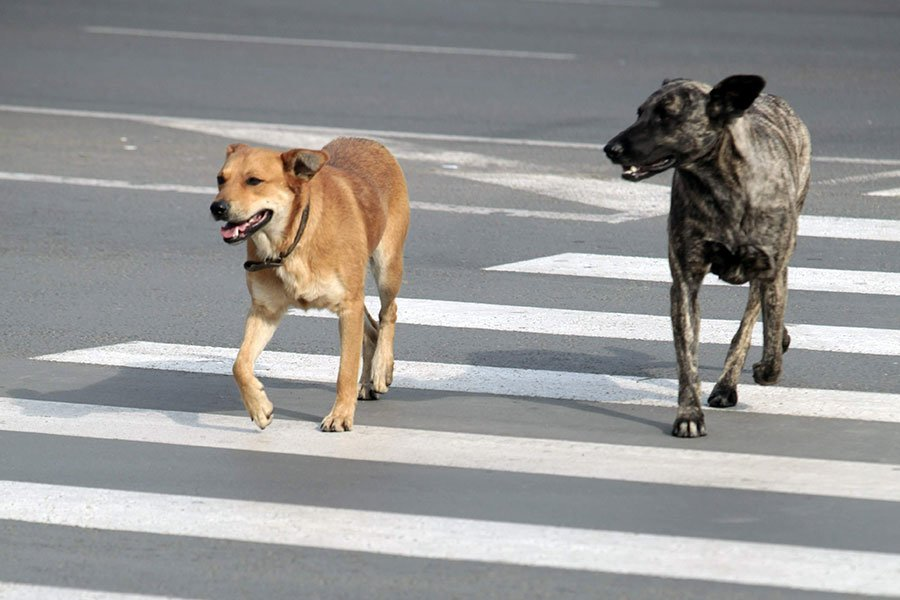kopek: (594, 72, 816, 446), (199, 132, 429, 435)
